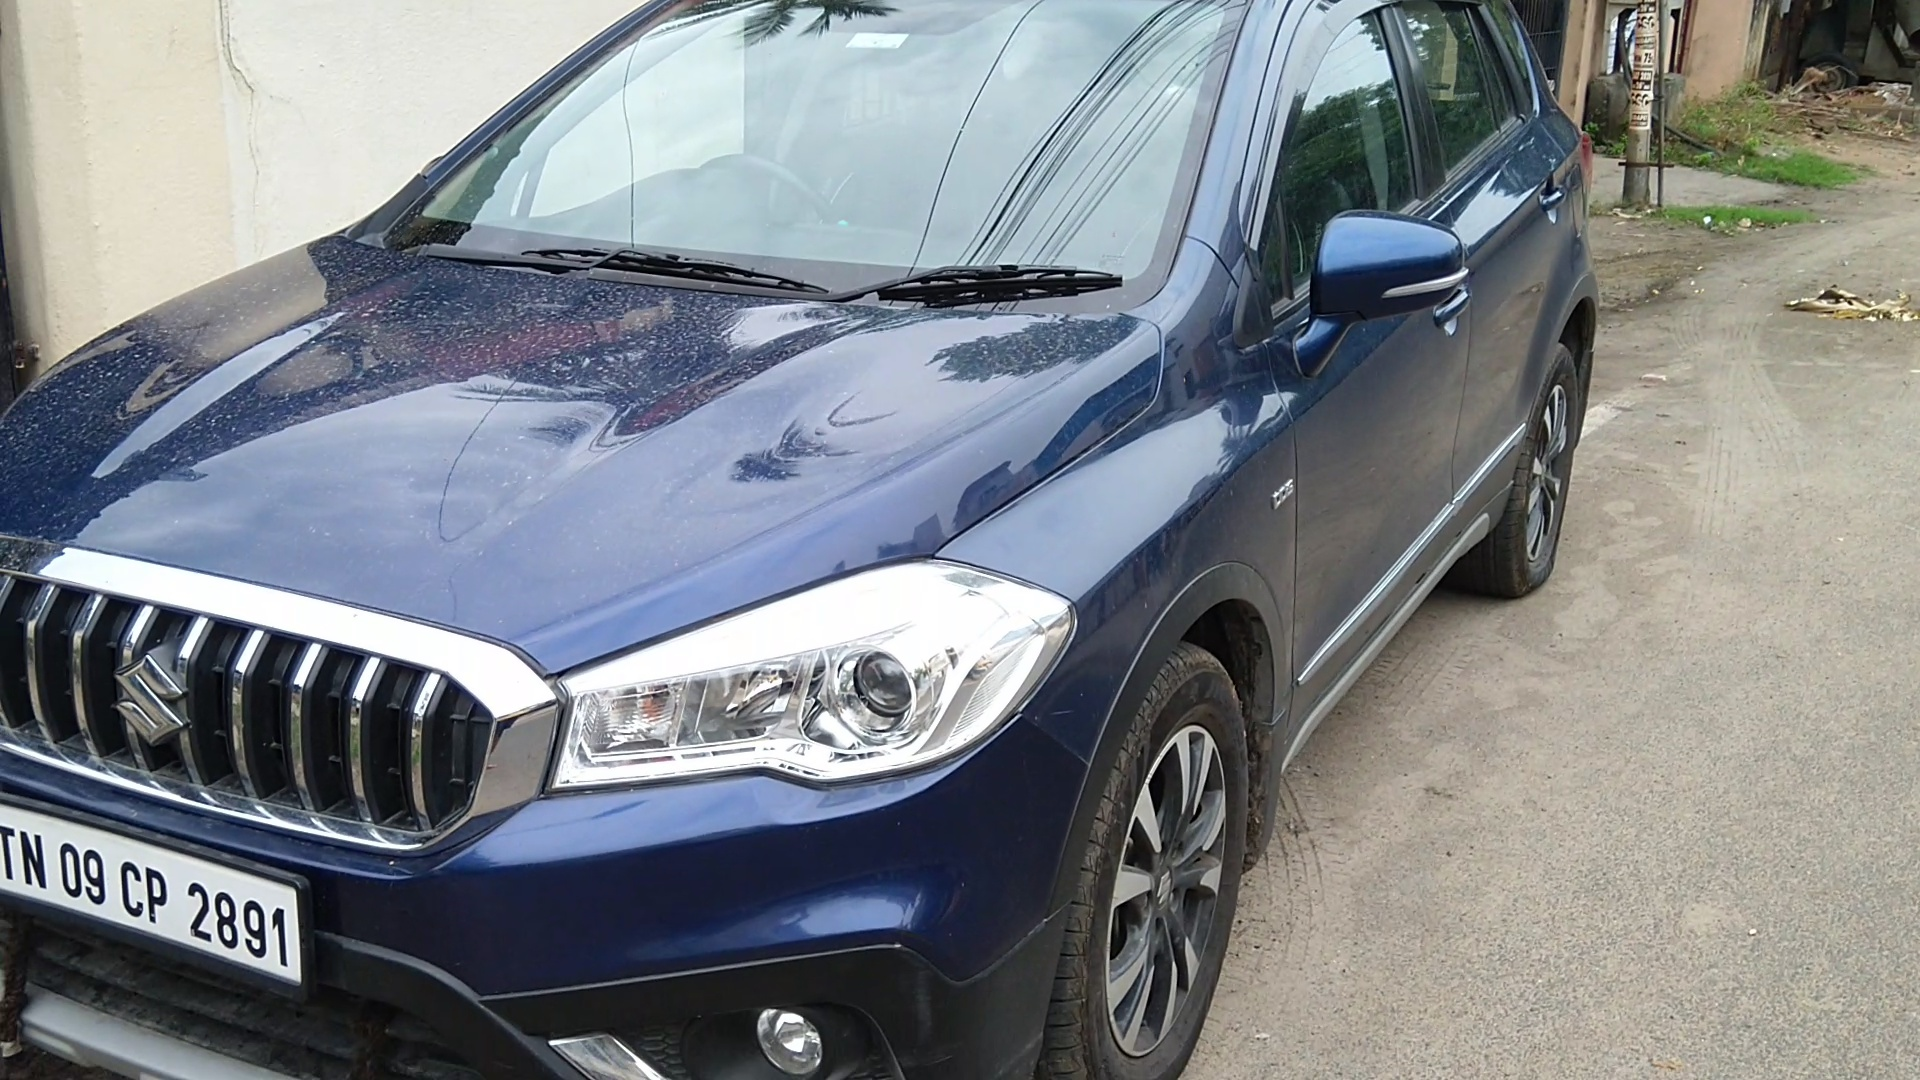alloy_wheel: (1067, 644, 1265, 1077), (1505, 331, 1594, 593)
front_grill: (3, 508, 547, 902)
headlamp: (550, 534, 1085, 802)
ovr_mirror: (1305, 199, 1476, 334)
